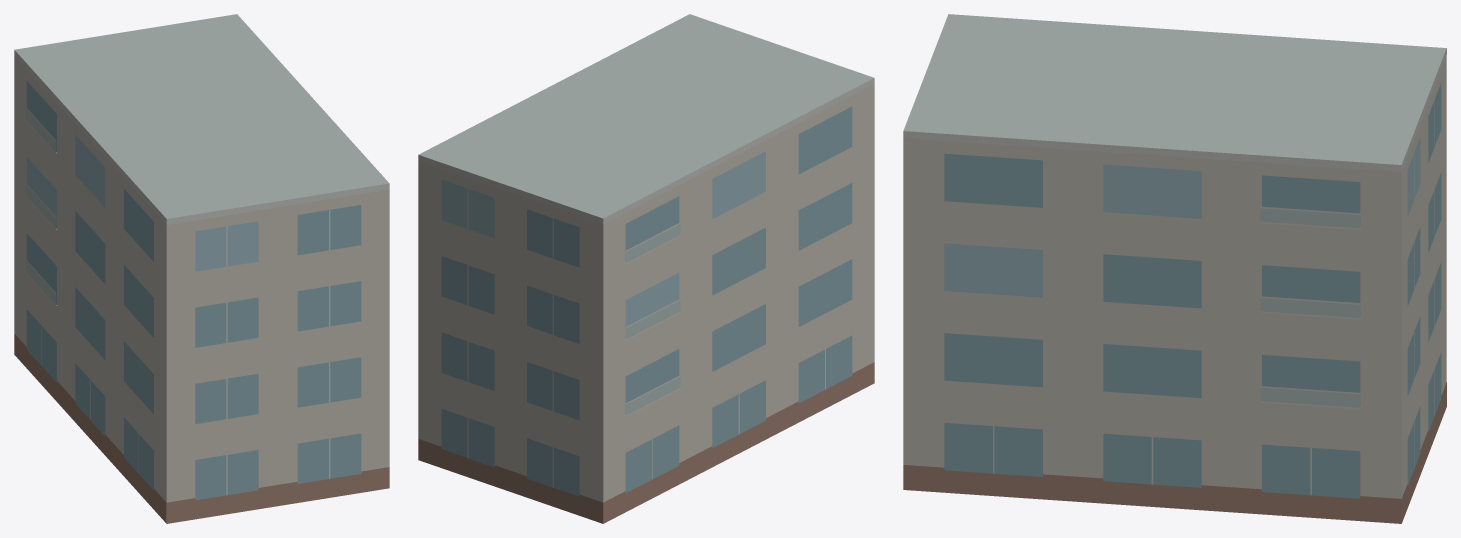
File: survey-upis-32887522.glb
The picture shows the model from 3 angles, left to right: view 1: azimuth 30°, elevation 25°; view 2: azimuth 150°, elevation 25°; view 3: azimuth 270°, elevation 25°; orthographic projection. The views are drawn at different scales.
Visible parts, largest first — view 1: survey-upis-32887522.tmp; view 2: survey-upis-32887522.tmp; view 3: survey-upis-32887522.tmp.
Part boxes in pixels (x1,y1,x2,y2): survey-upis-32887522.tmp: (14, 14, 389, 523); survey-upis-32887522.tmp: (418, 14, 874, 523); survey-upis-32887522.tmp: (903, 14, 1446, 523).
Size of the model in its own units: 11.2 by 12.4 by 17.03.
